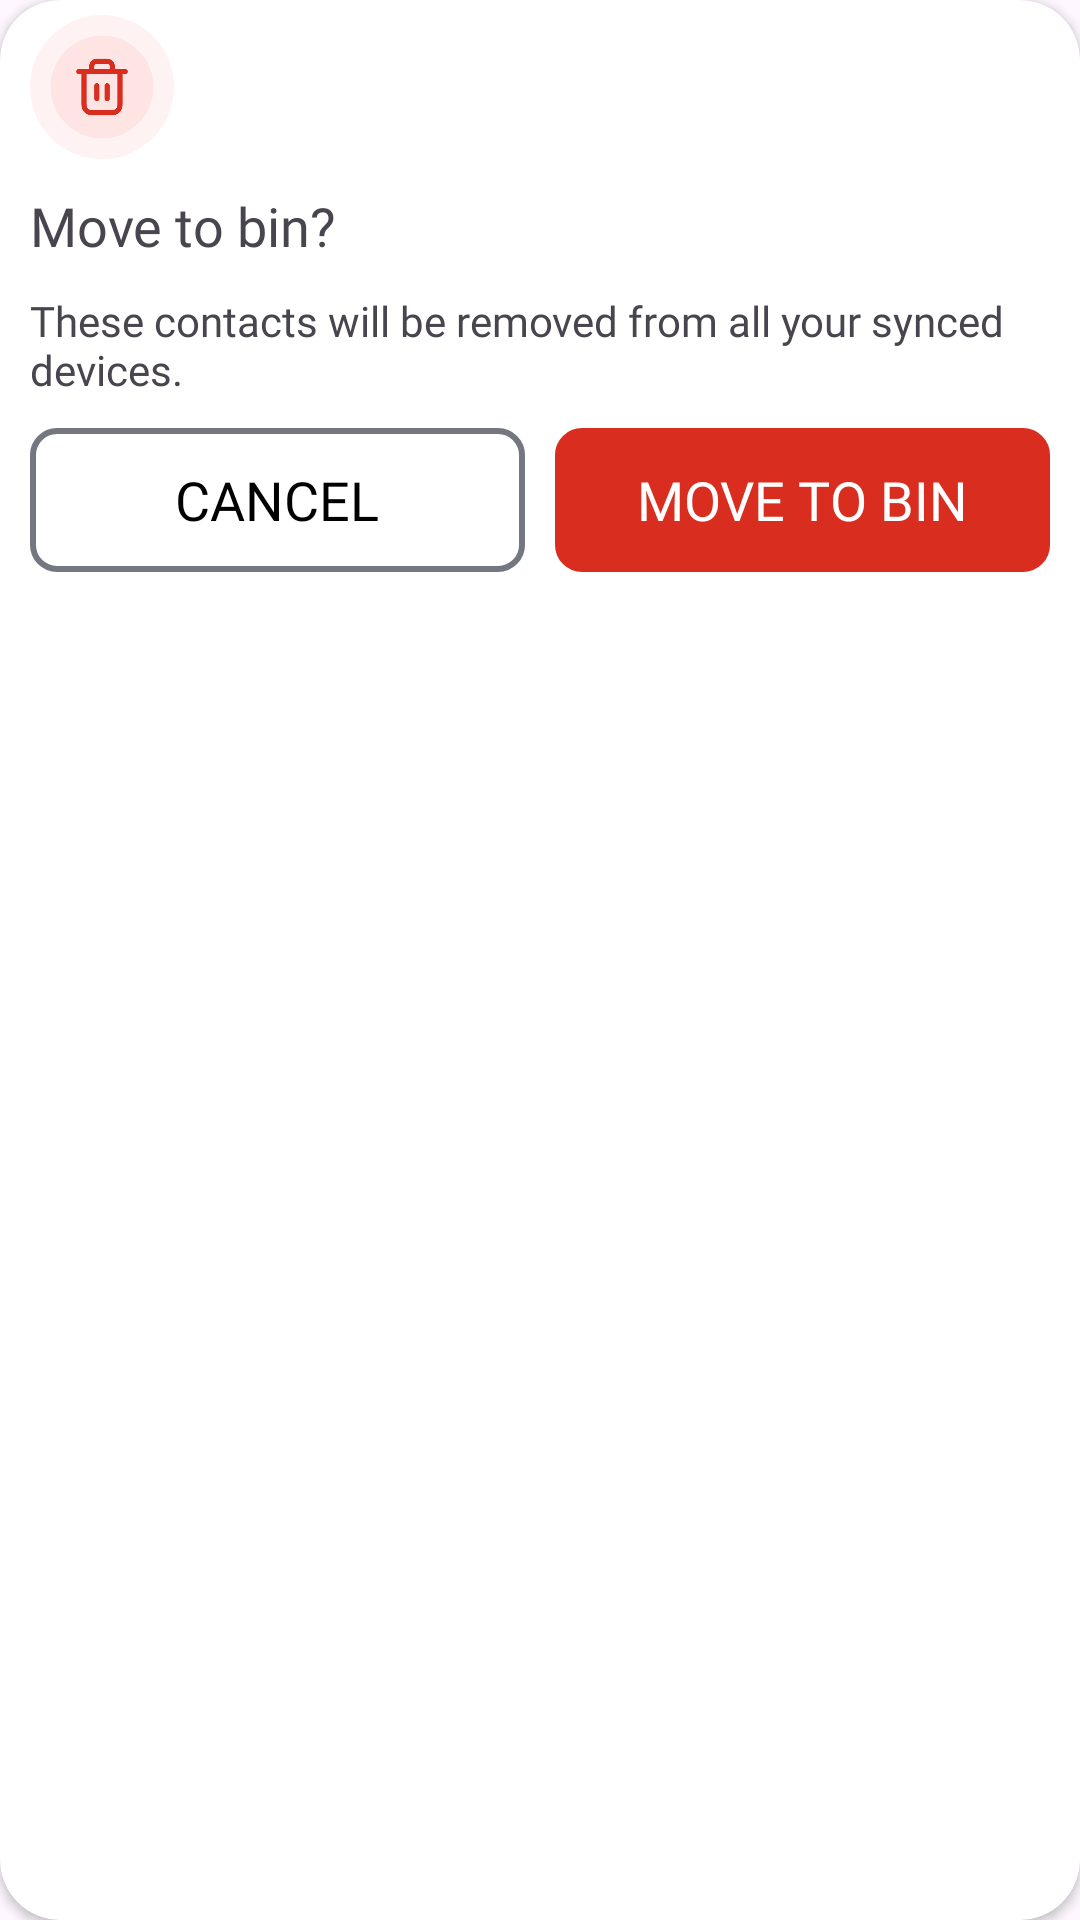

Named icons in this screenshot (1080px×1920px) and their bounding boxes, bbox=[x1, y1, x2, y2]:
delete: bbox=[51, 36, 153, 138]
